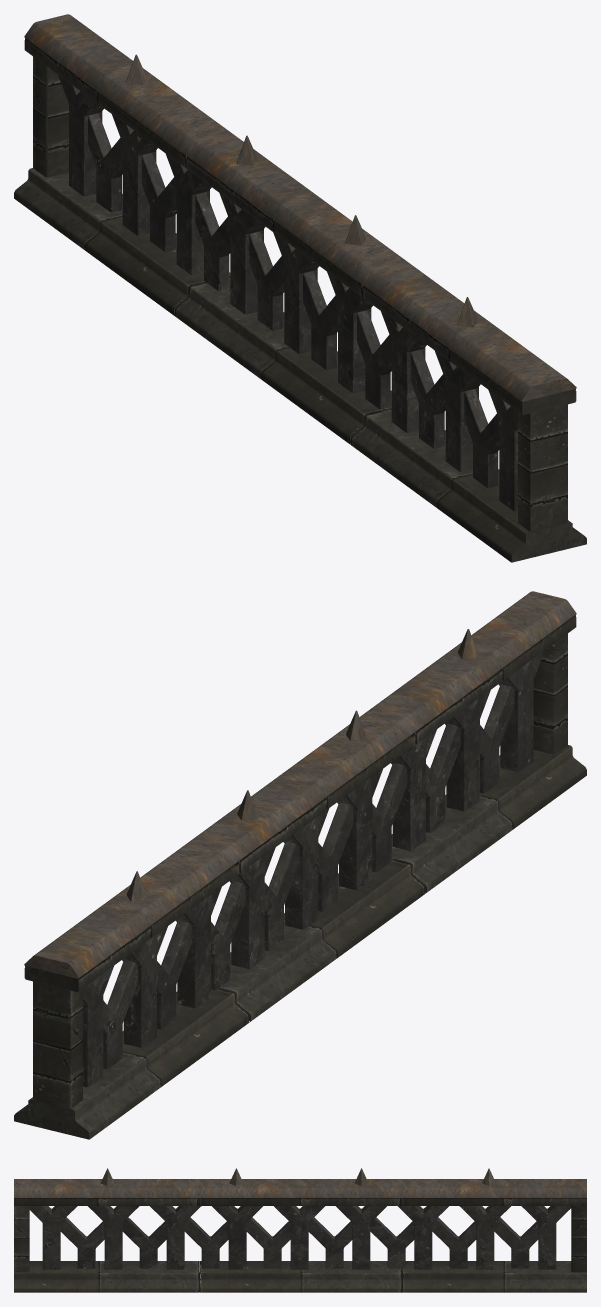
The picture shows the model from 3 angles, top to bottom: view 1: azimuth 30°, elevation 25°; view 2: azimuth 150°, elevation 25°; view 3: azimuth 270°, elevation 25°; orthographic projection. The views are drawn at different scales.
Parts seen in each view (by area): view 1: SM_Greathall_Banister_01_LOD0; view 2: SM_Greathall_Banister_01_LOD0; view 3: SM_Greathall_Banister_01_LOD0.
Part boxes in pixels (left/top/right/bottom): SM_Greathall_Banister_01_LOD0: left=14, top=14, right=586, bottom=562; SM_Greathall_Banister_01_LOD0: left=14, top=591, right=586, bottom=1139; SM_Greathall_Banister_01_LOD0: left=14, top=1168, right=586, bottom=1292.
Bounding box in the file's own units: 0.7002 × 1.75 × 8.
3 materials, 3 textured.
